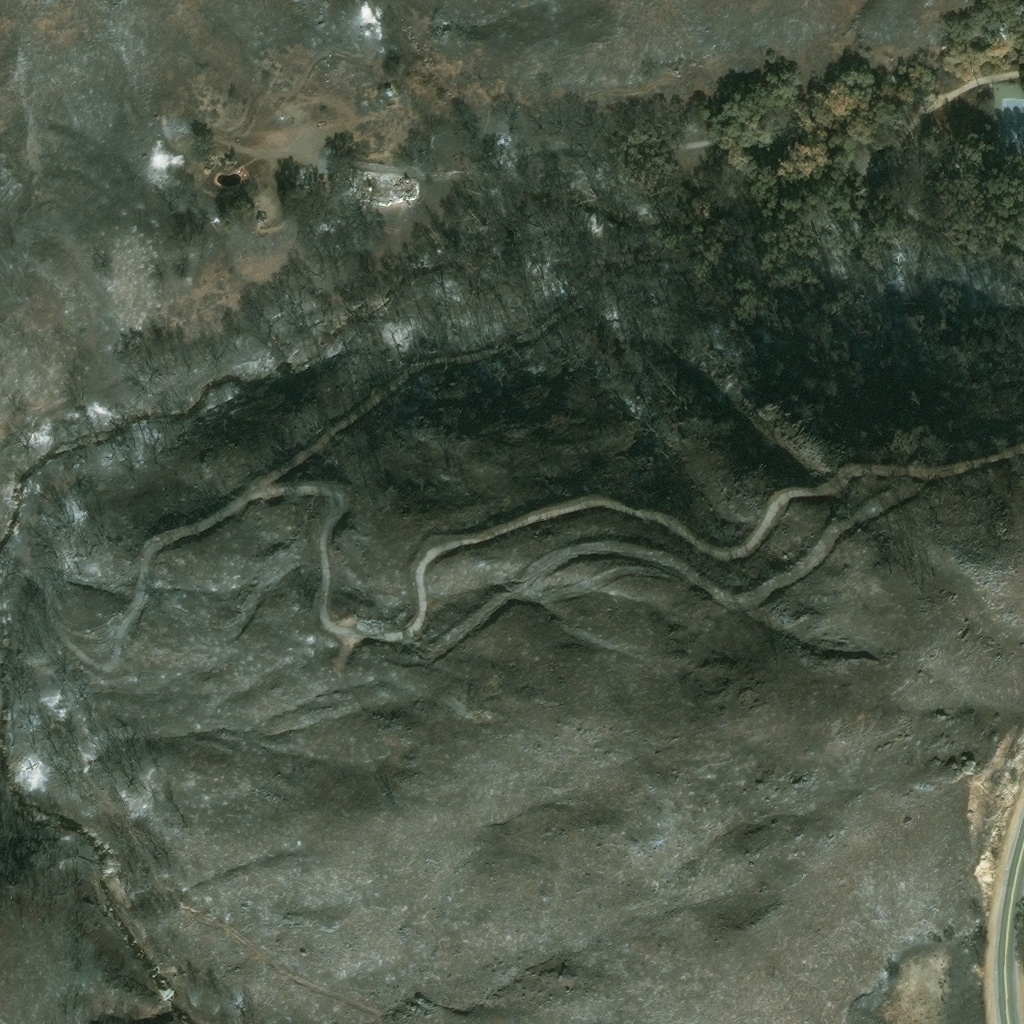3 destroyed: (361, 169, 417, 200), (358, 616, 380, 628), (301, 165, 312, 181), (377, 86, 392, 97), (257, 213, 265, 221)
